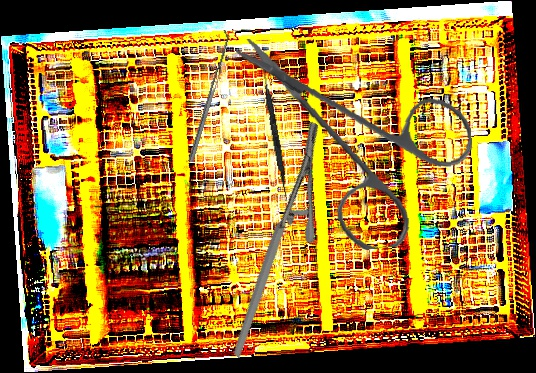Iris Scissors: (235, 16, 482, 262)
Needle Holder: (168, 119, 382, 359)
Spatula Surgical: (183, 29, 233, 163), (256, 59, 293, 201)
